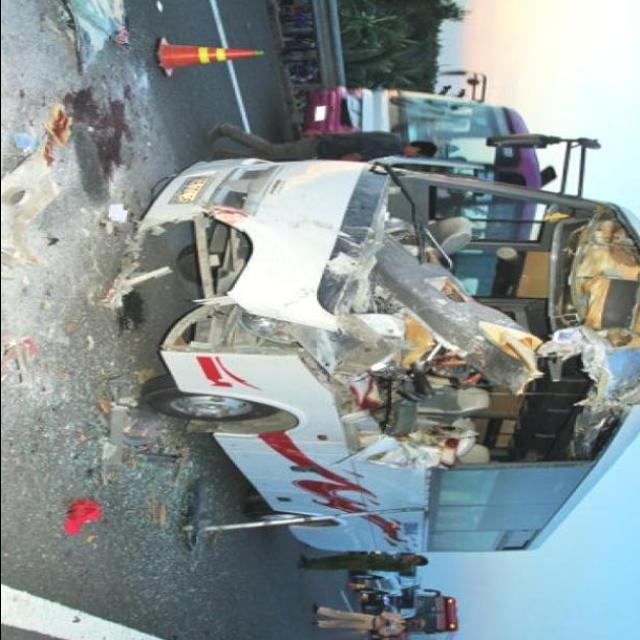accident: (97, 150, 640, 510)
